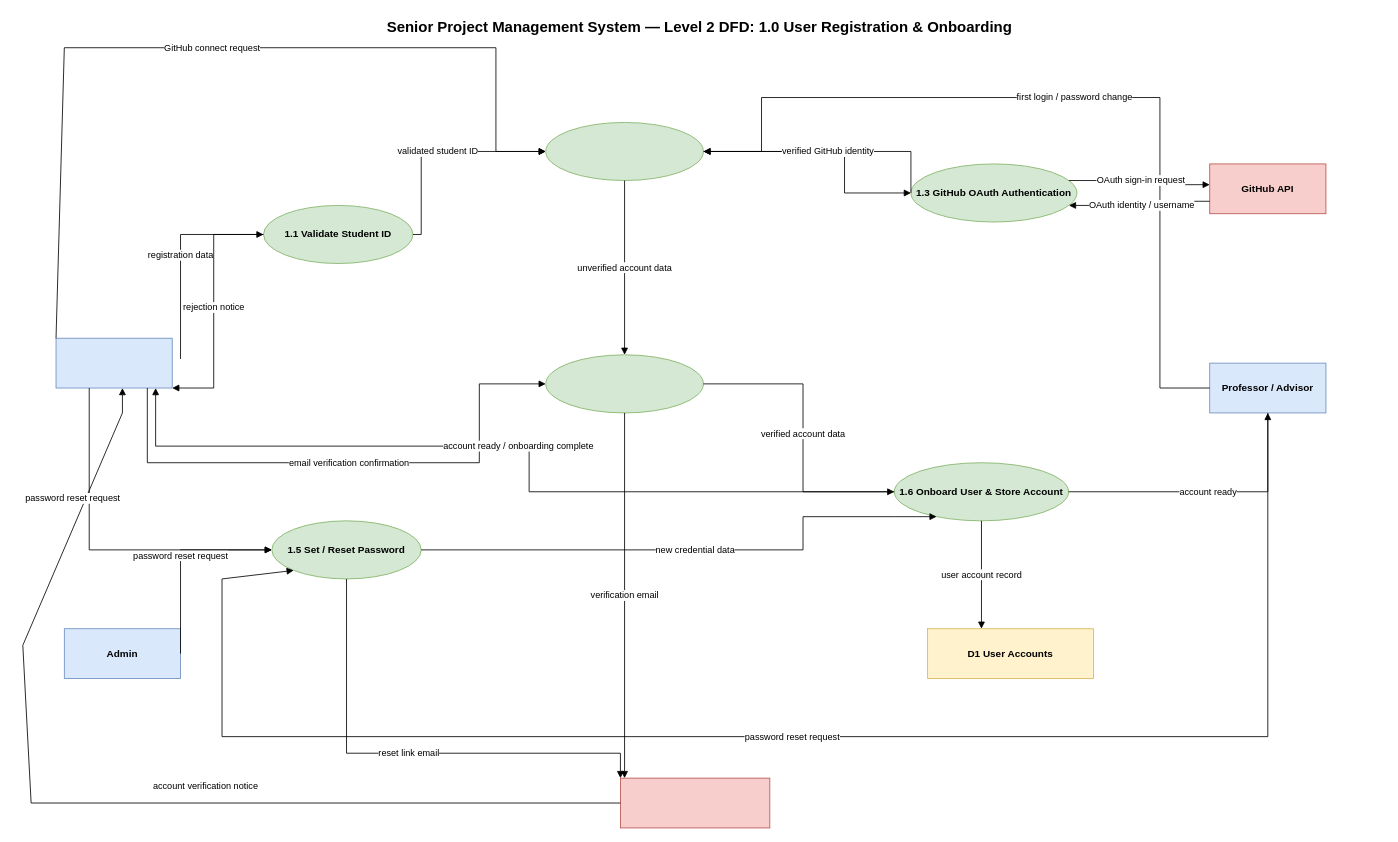
Some shapes in this 1398 by 842 pixel diagram are drawn without their labels. The shapes that lost their labels are listed below. From the top down, each one's centre as x and y in pixels, then its label:
point (624, 151): 1.2 Create / Verify Account
point (113, 362): Student
point (624, 383): 1.4 Send Verification Email
point (695, 802): Email / Notification Service
